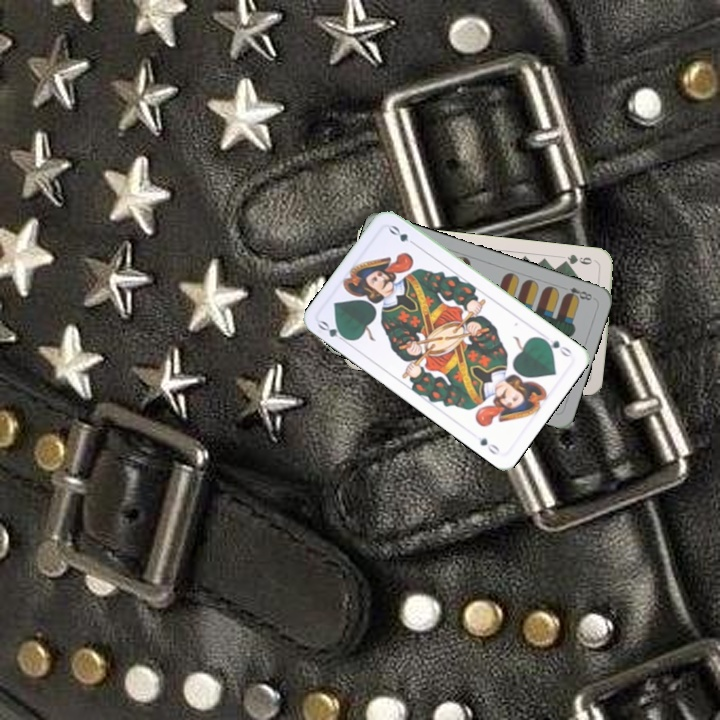E8: (560, 283, 595, 303)
G9: (558, 250, 599, 267)
GO: (314, 316, 352, 346), (537, 334, 574, 360)
